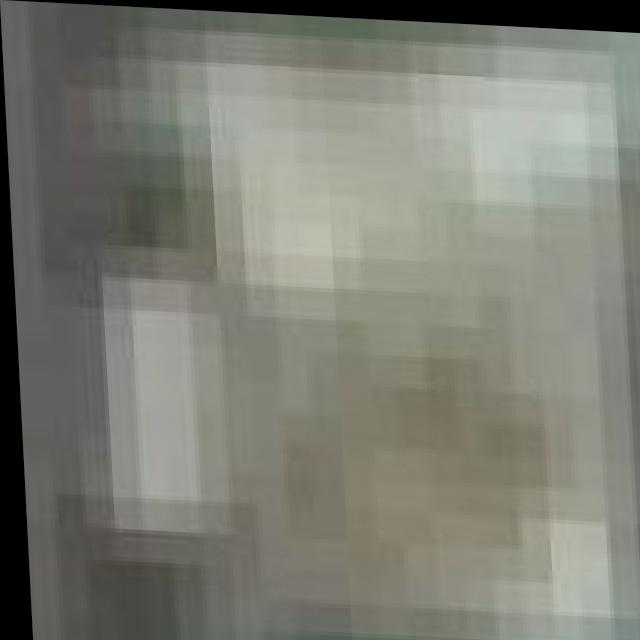transistor: (0, 0, 462, 640)
